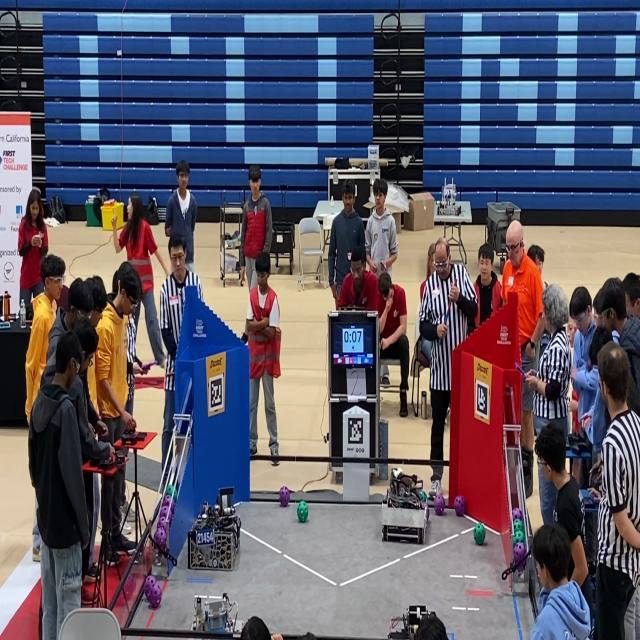artifact_green: (513, 543, 527, 570), (297, 501, 309, 523), (474, 523, 485, 545), (512, 531, 526, 546), (165, 485, 177, 501), (512, 508, 523, 520), (513, 520, 524, 532), (420, 489, 427, 503), (165, 485, 174, 495)
artifact_purple: (514, 543, 527, 568), (148, 584, 161, 609), (123, 575, 135, 599), (144, 575, 156, 596), (154, 528, 166, 549), (454, 495, 465, 516), (279, 486, 290, 507), (434, 494, 445, 515), (162, 496, 174, 513), (157, 517, 169, 531), (512, 508, 523, 521), (159, 506, 170, 518), (162, 495, 172, 506), (169, 498, 175, 516), (166, 511, 173, 524), (425, 503, 429, 521)
